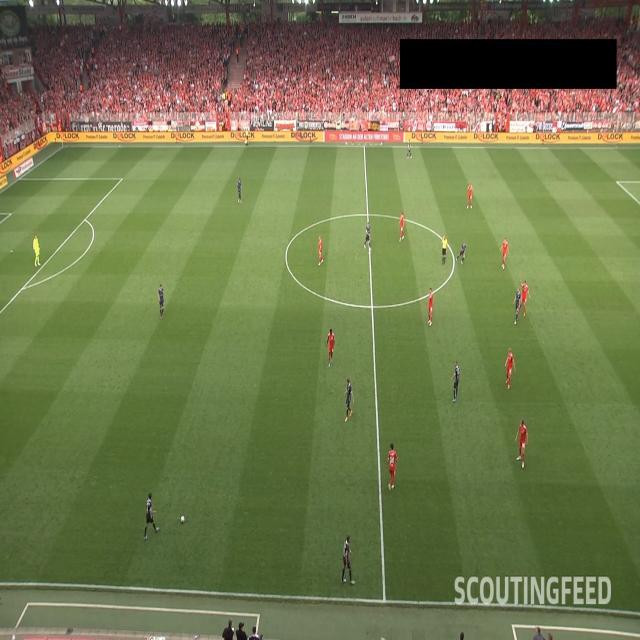ball: (180, 515, 185, 524)
